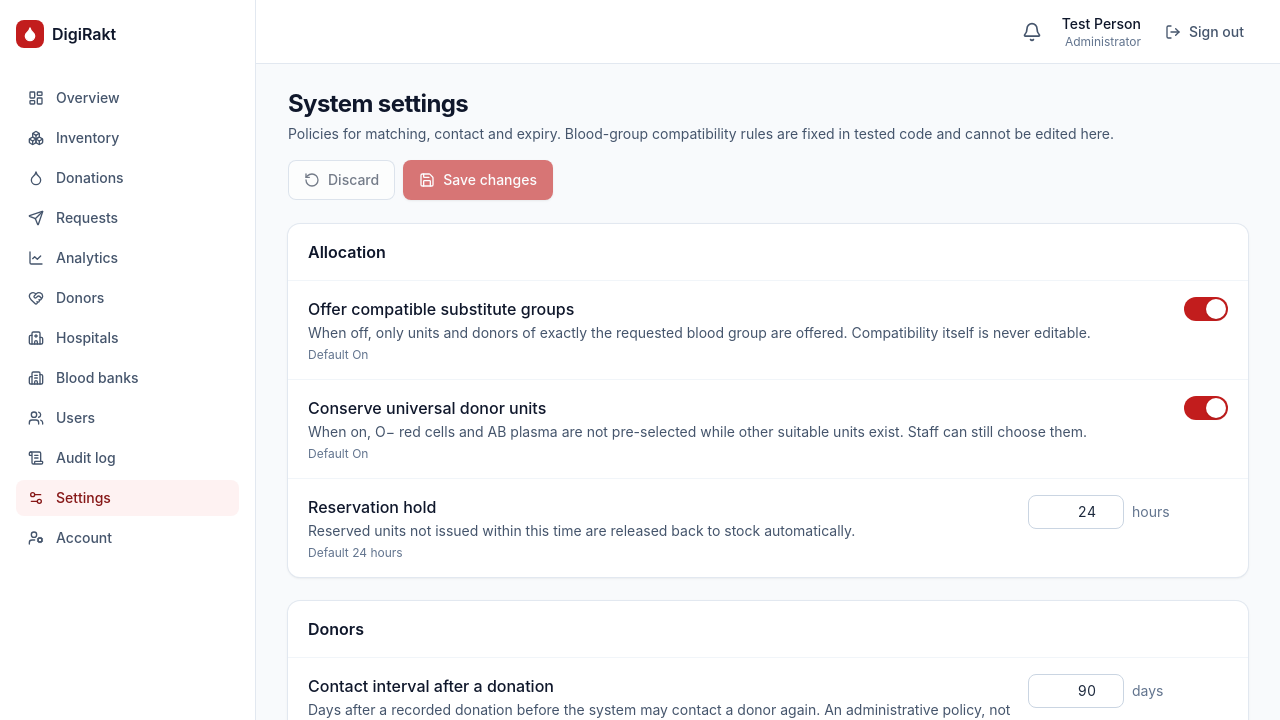
Test: system settings page › saves only the changed settings, with a reason
The image size is (1280, 720).
Clear the number field labelled "Reservation hold" at (1076, 512), box [1028, 495, 1124, 529]
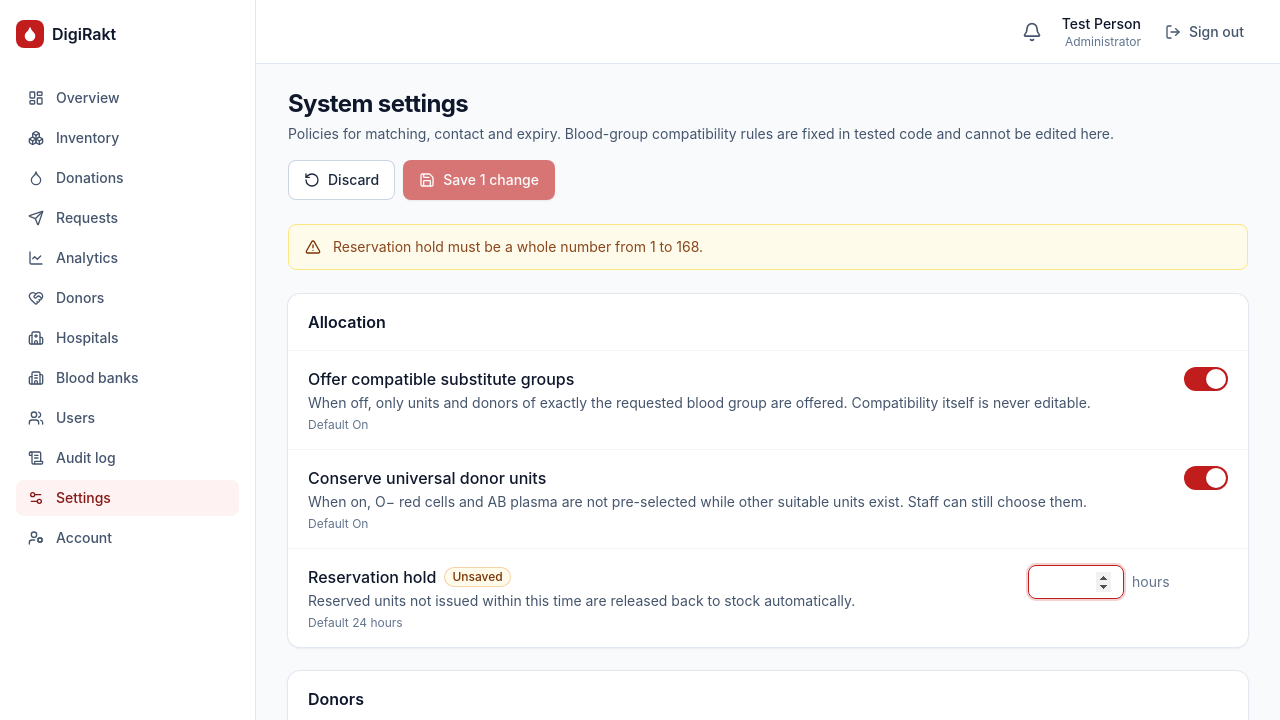
Type "12" into the number field labelled "Reservation hold Unsaved" at (1076, 582), box [1028, 565, 1124, 599]
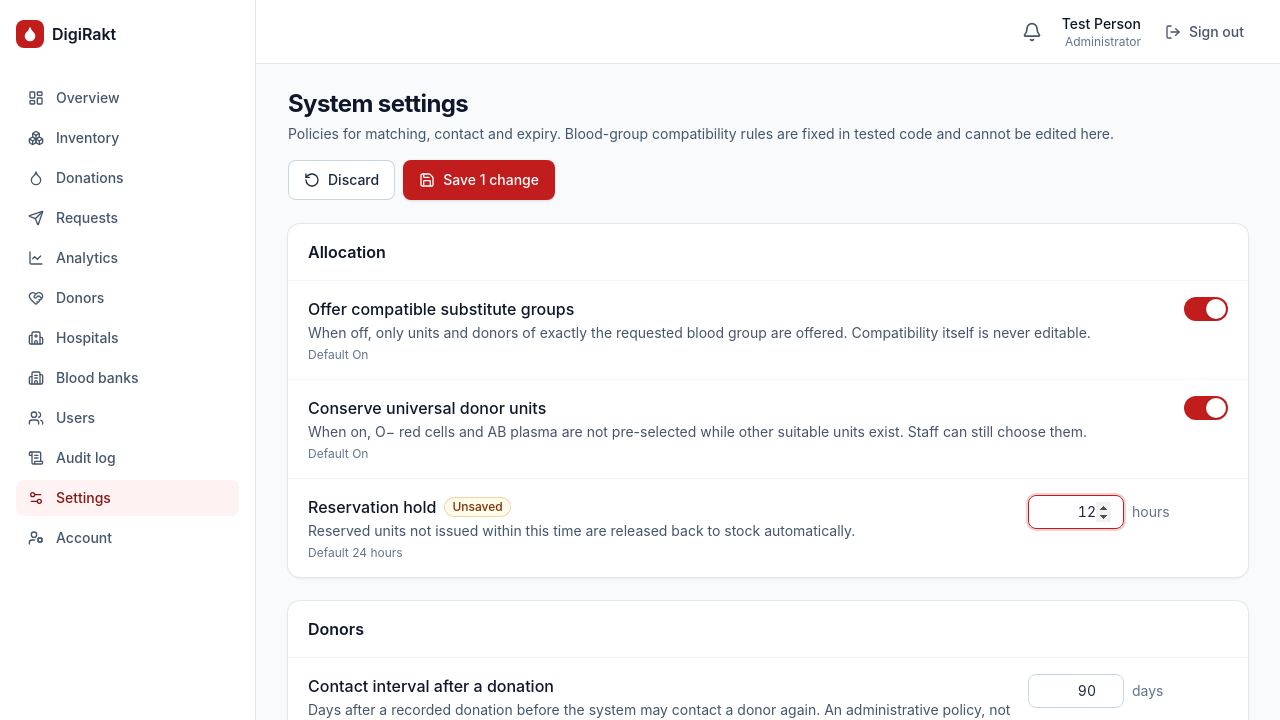
Click the switch named "Offer compatible substitute groups" in the row of "Offer compatible substitute groups" at (1206, 309), box [1184, 297, 1228, 321]
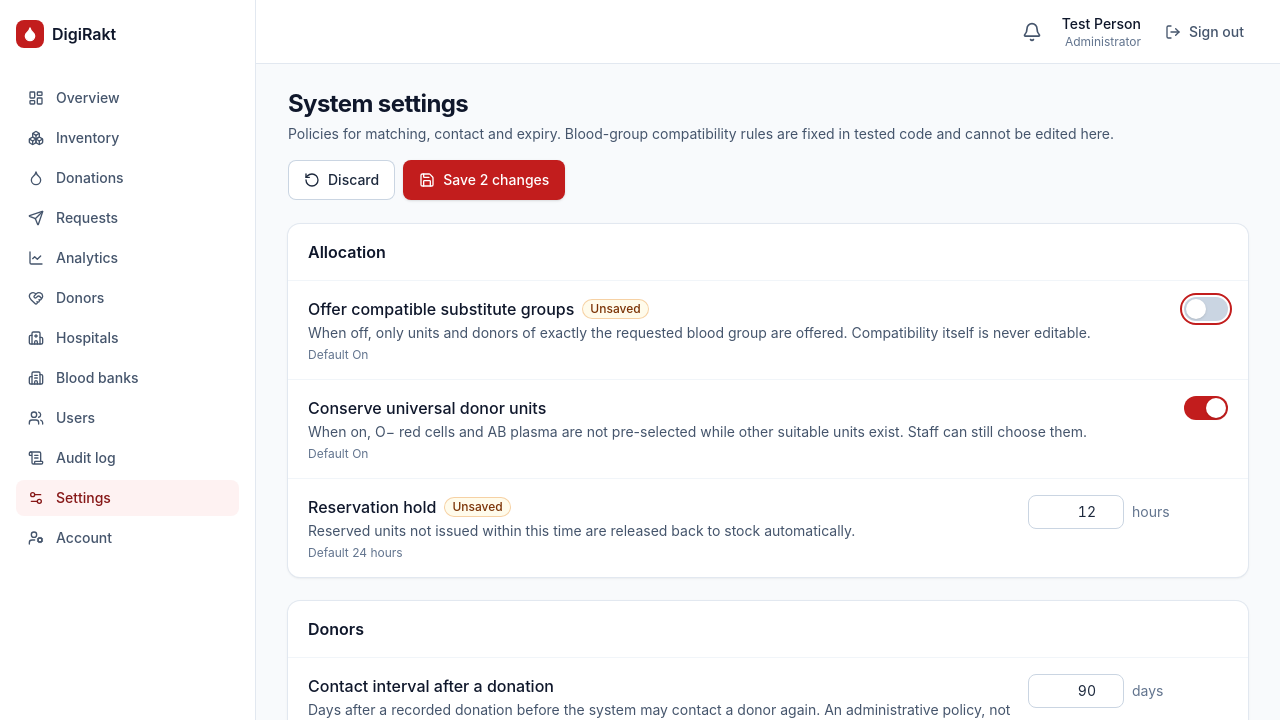
Click the button "Save 2 changes" at (484, 180), box [403, 160, 565, 200]
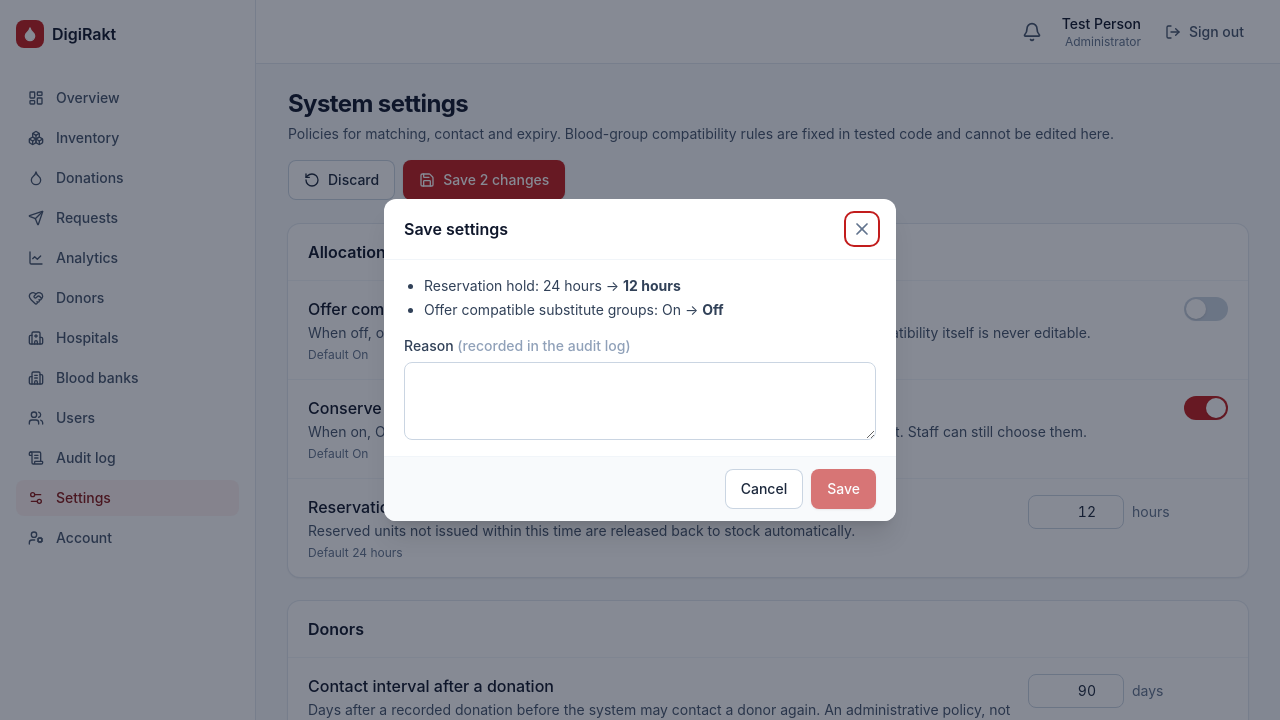
Expected: the dialog shows "24 hours → 12 hours", [384, 199, 896, 521]
Expected: the dialog shows "On → Off", [384, 199, 896, 521]
Expected: the button "Save" is disabled, [811, 469, 876, 509]
Type "Shorter holds this season" into the text box at (640, 401), box [404, 362, 876, 440]
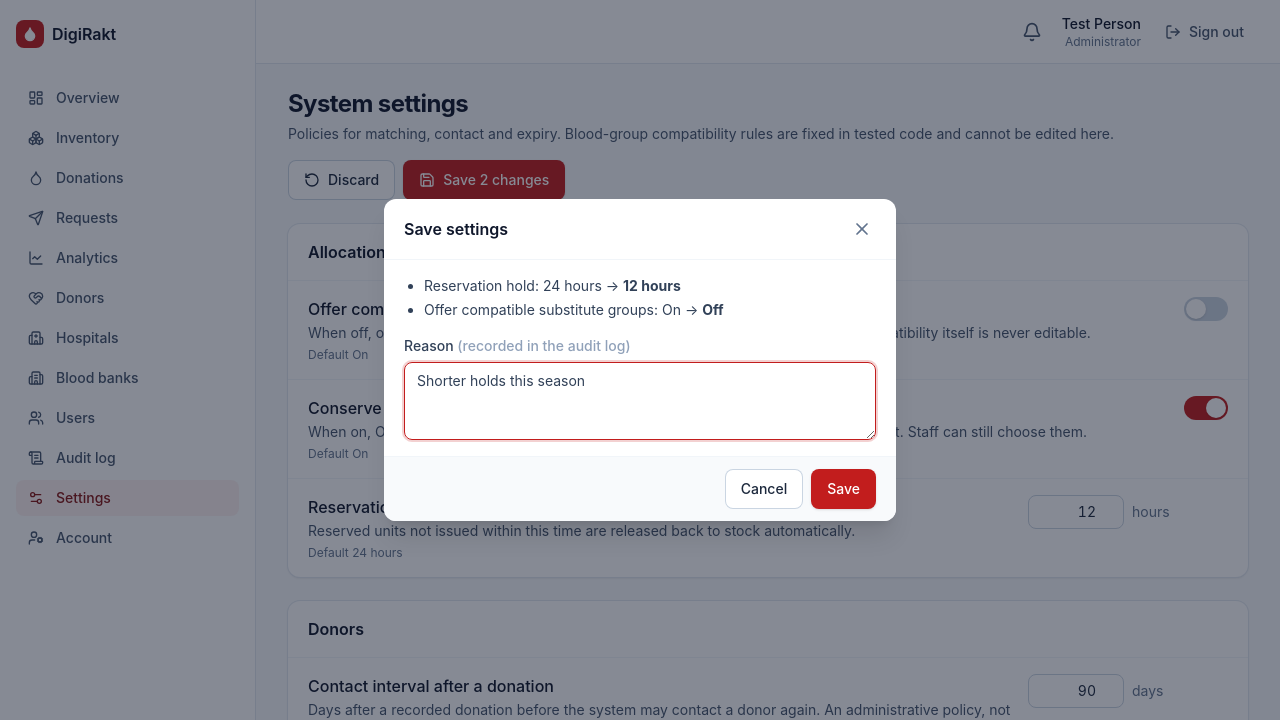
Click the button "Save" at (844, 489), box [811, 469, 876, 509]
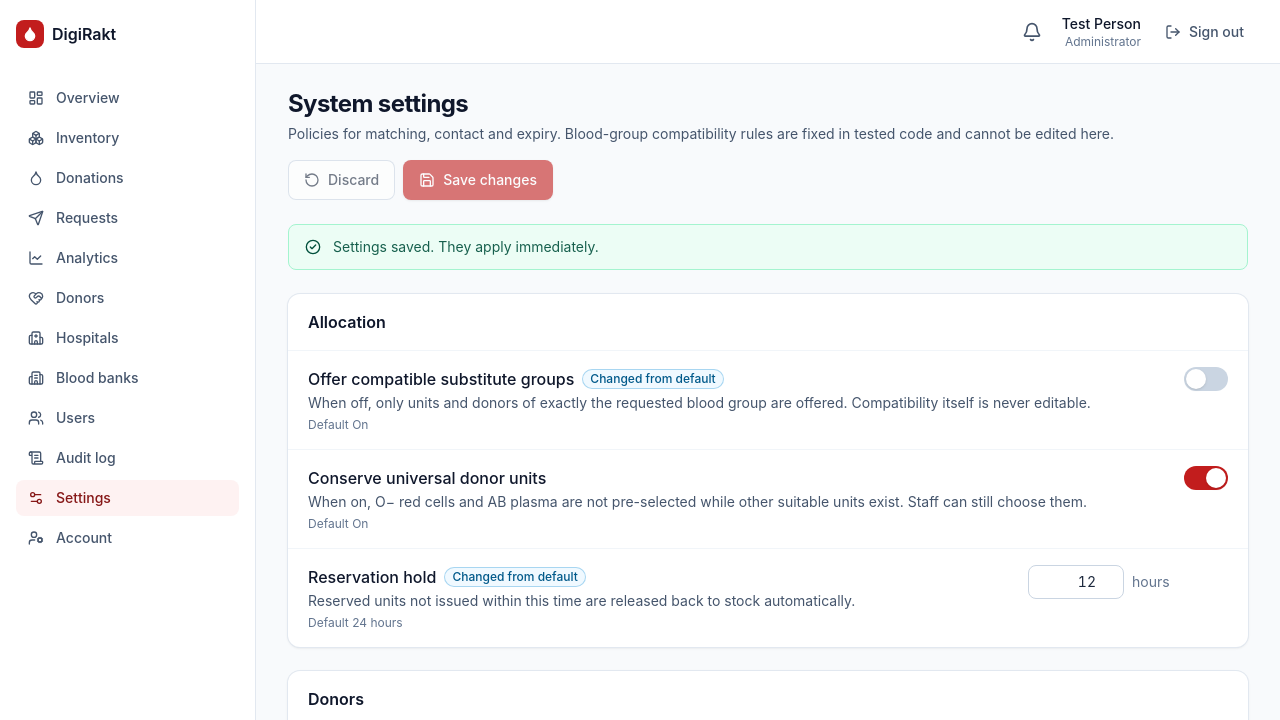
Expected: the text "Settings saved. They apply immediately." is shown, [333, 238, 599, 255]
